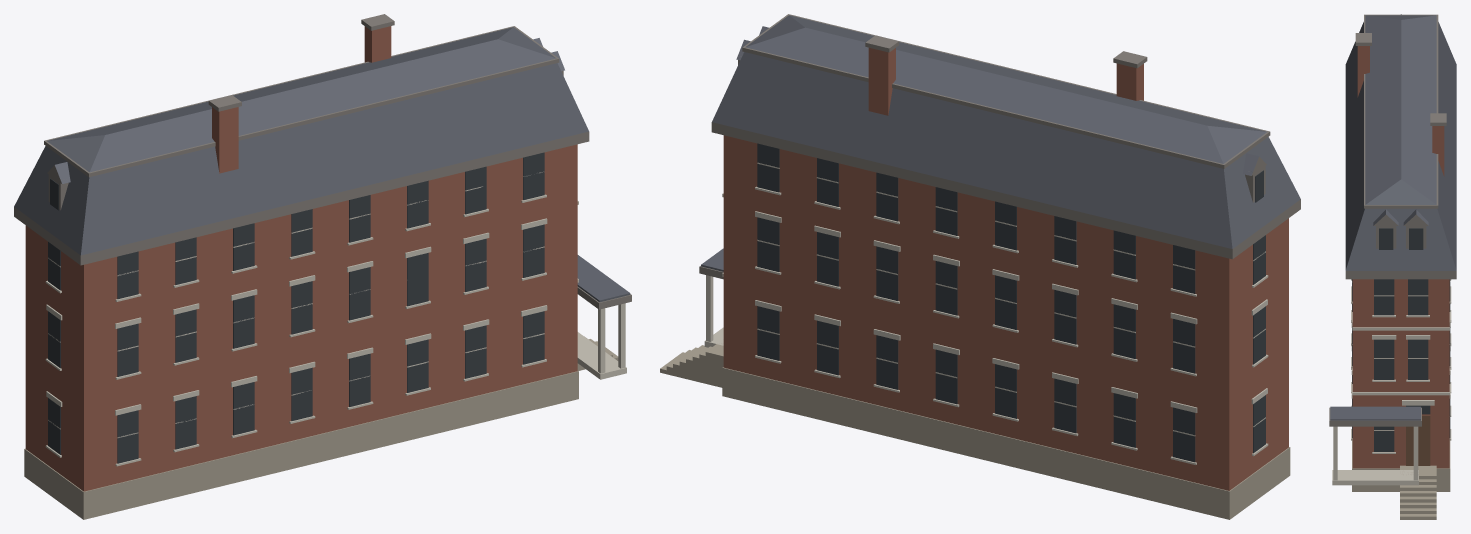
The model's file is house_1736_prairie__draft_1904.glb.
The picture shows the model from 3 angles, left to right: view 1: azimuth 30°, elevation 25°; view 2: azimuth 150°, elevation 25°; view 3: azimuth 270°, elevation 25°; orthographic projection. The views are drawn at different scales.
Parts seen in each view (by area): view 1: house_1736_prairie__draft_1904; view 2: house_1736_prairie__draft_1904; view 3: house_1736_prairie__draft_1904.
Part boxes in pixels (x1=…): house_1736_prairie__draft_1904: x1=14, y1=14, x2=631, y2=519; house_1736_prairie__draft_1904: x1=660, y1=14, x2=1300, y2=519; house_1736_prairie__draft_1904: x1=1329, y1=14, x2=1456, y2=519.
Size of the model in its own units: 26.9 by 16.97 by 6.25.
